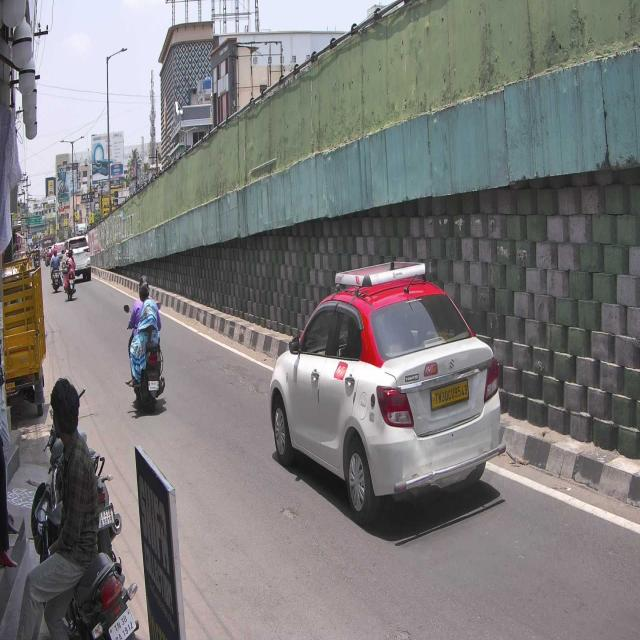double_rider: (122, 275, 168, 414)
